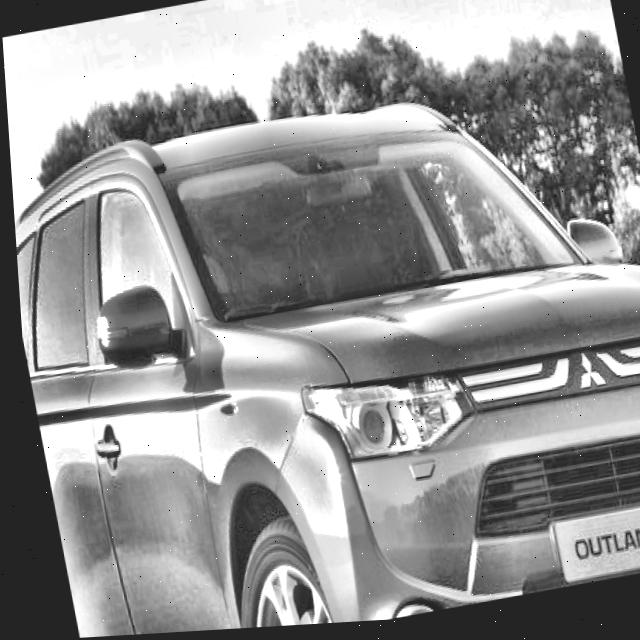light_vehicle: (5, 56, 640, 640)
